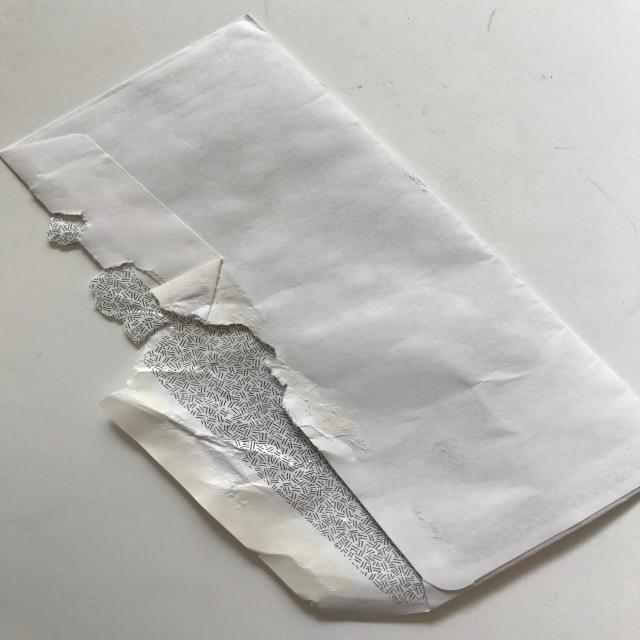paper: (1, 13, 638, 618)
